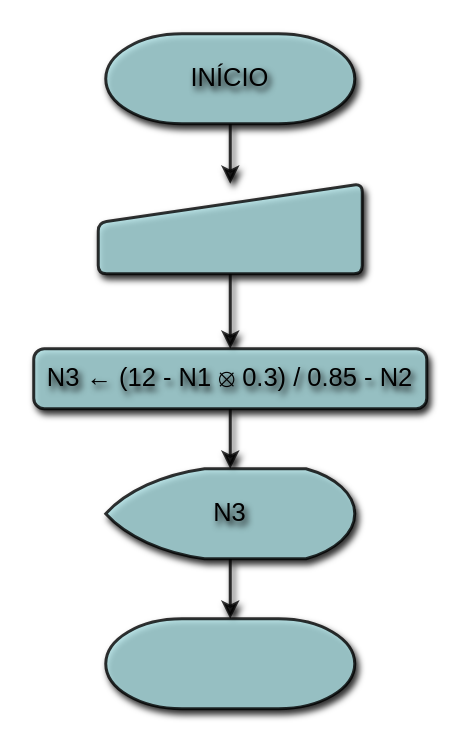
Image size: 462x746. Some labels were removed from this diagram. The centre of each missing label's shape, as x and y in pixels:
"FIM" belongs at [231,665].
"N1, N2" belongs at [231,230].
